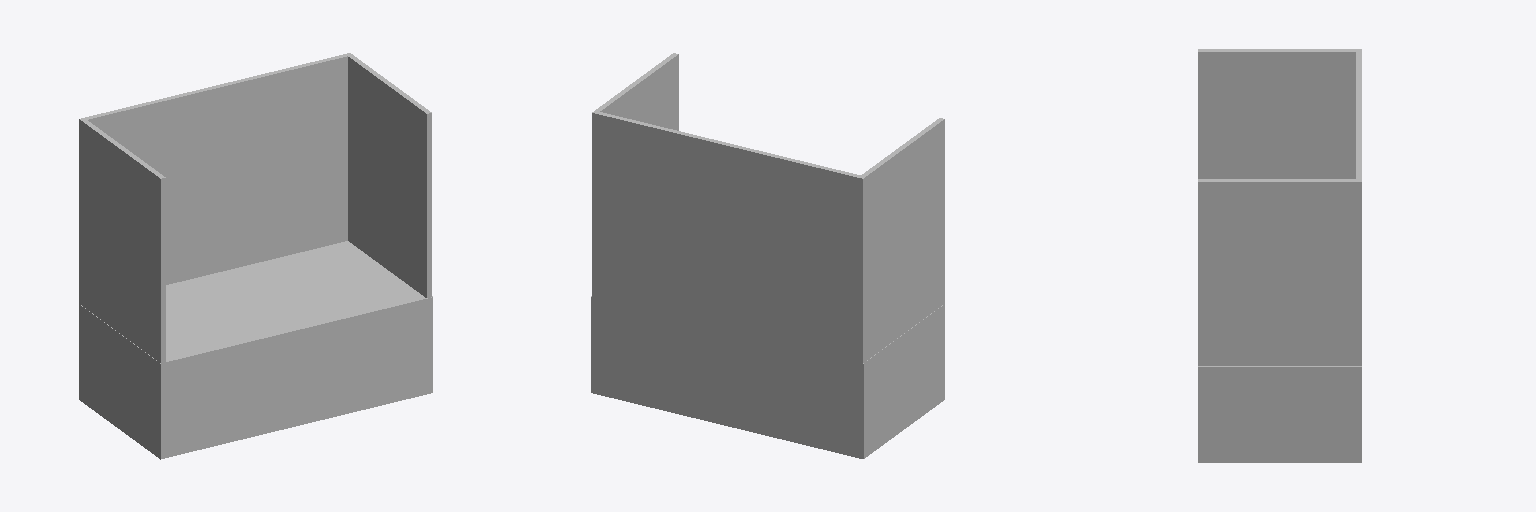
Rendered from counter.obj.
3 views of the same model, side by side, from view 1: azimuth 30°, elevation 25°; view 2: azimuth 150°, elevation 25°; view 3: azimuth 270°, elevation 25° (orthographic).
Parts seen in each view (by area): view 1: pCube1, pasted__pasted__pCube2 pasted__Walls group, Walls pCube2, pasted__pCube2 Walls; view 2: pasted__pasted__pCube2 pasted__Walls group, Walls pCube2, pCube1, pasted__pCube2 Walls; view 3: pasted__pCube2 Walls, Walls pCube2, pCube1, pasted__pasted__pCube2 pasted__Walls group.
Part boxes in pixels (x1,y1,x2,y2): pCube1: (79, 241, 432, 459); pasted__pasted__pCube2 pasted__Walls group: (81, 54, 350, 284); Walls pCube2: (79, 118, 165, 362); pasted__pCube2 Walls: (346, 53, 431, 297); pasted__pasted__pCube2 pasted__Walls group: (593, 111, 864, 453); Walls pCube2: (859, 118, 944, 453); pCube1: (591, 296, 944, 458); pasted__pCube2 Walls: (592, 53, 678, 387); pasted__pCube2 Walls: (1198, 179, 1361, 365); Walls pCube2: (1198, 49, 1361, 178); pCube1: (1198, 366, 1361, 462); pasted__pasted__pCube2 pasted__Walls group: (1356, 52, 1361, 178).
Size of the model in its own units: 2.98 by 2.93 by 1.55.